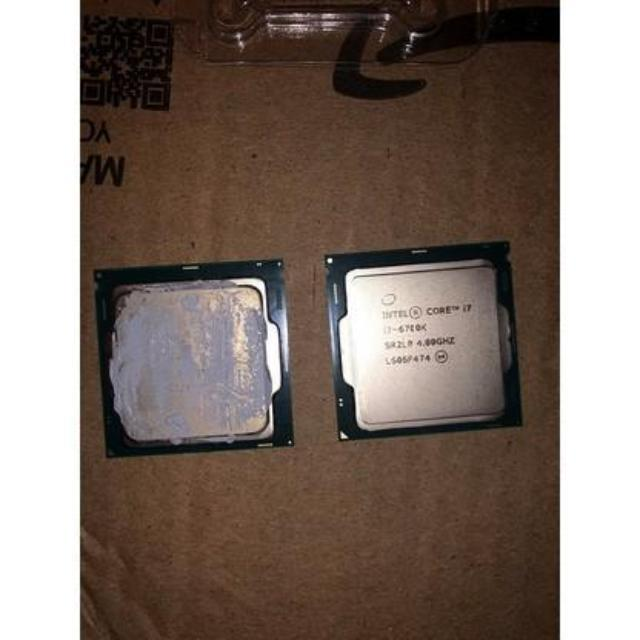CPU: (323, 249, 525, 434), (92, 270, 288, 444)
